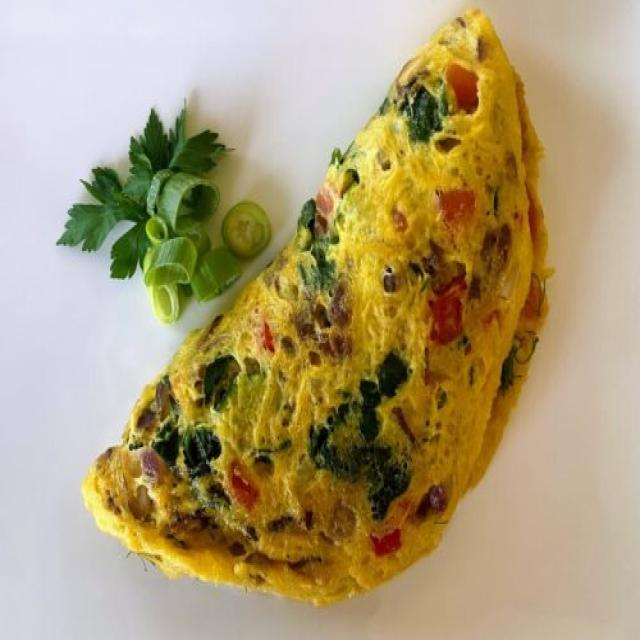telur_ayam_dadar: (82, 5, 554, 606)
